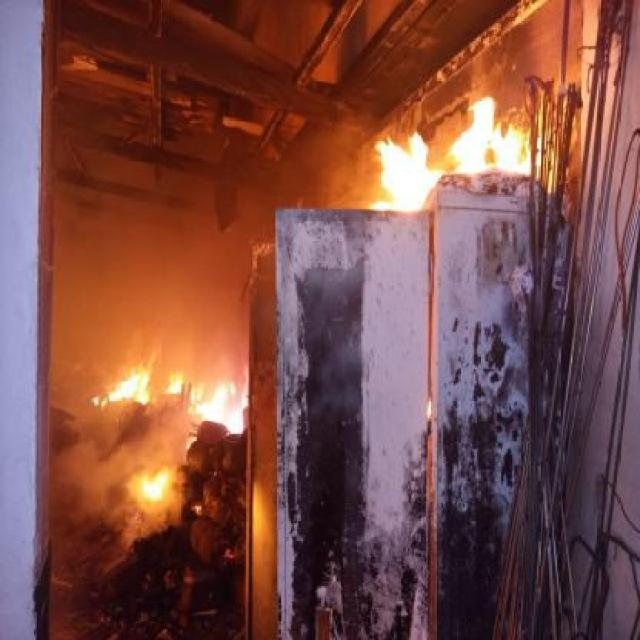Fire: (449, 96, 543, 176), (374, 131, 438, 214), (186, 380, 251, 435), (109, 366, 154, 404), (138, 463, 170, 500), (162, 370, 187, 396), (90, 394, 102, 406)
